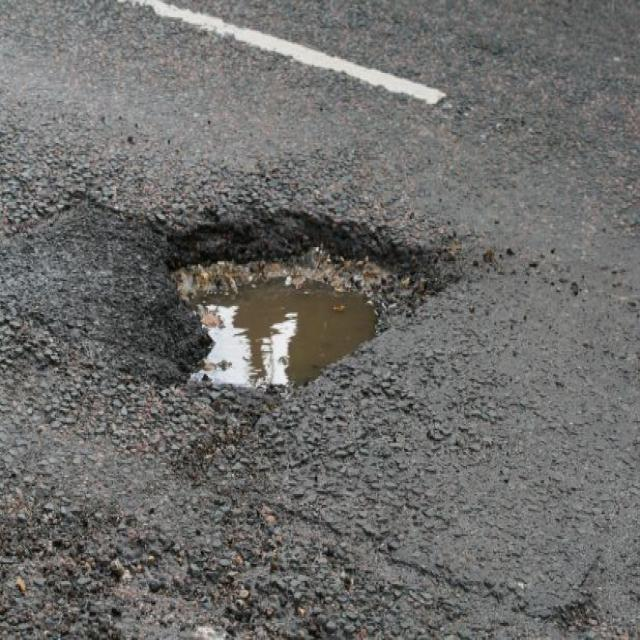pothole: (154, 208, 450, 404)
